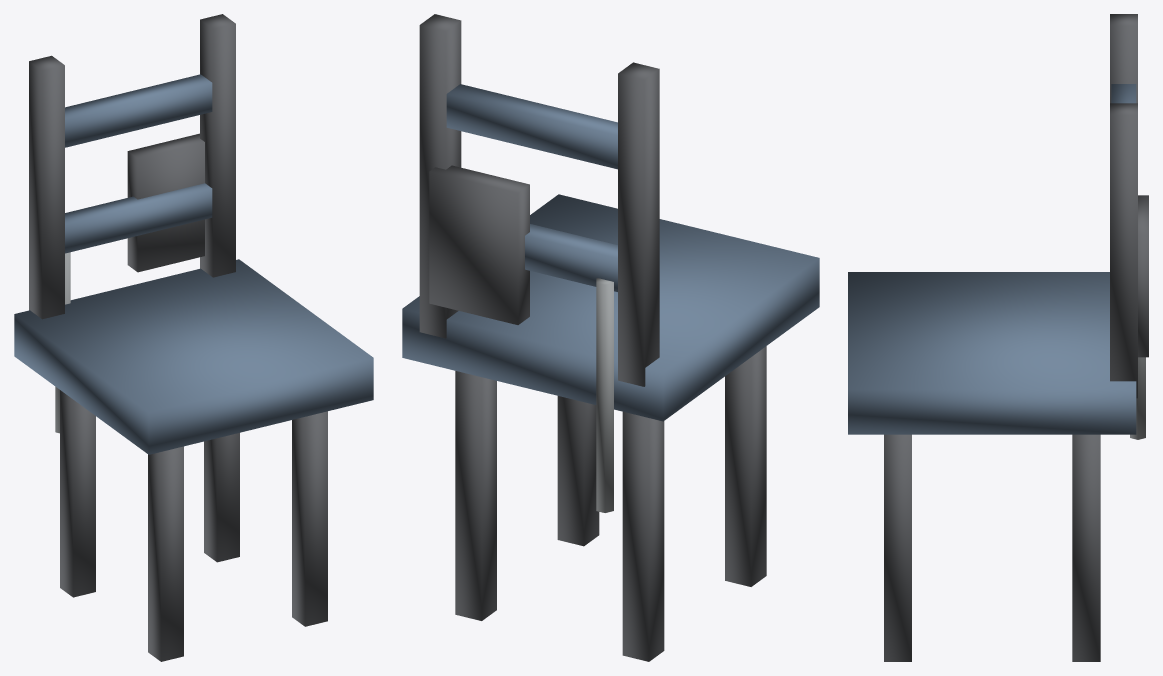
The model's file is waiting_chair__service.glb.
3 views of the same model, side by side, from view 1: azimuth 30°, elevation 25°; view 2: azimuth 150°, elevation 25°; view 3: azimuth 270°, elevation 25° (orthographic). The views are drawn at different scales.
Parts seen in each view (by area): view 1: world; view 2: world; view 3: world.
Boxes of the visible parts, x1,y1,x2,y2 form: world: [14, 14, 373, 661]; world: [402, 14, 819, 661]; world: [848, 14, 1148, 661].
Size of the model in its own units: 0.445 by 0.9782 by 0.4816.
